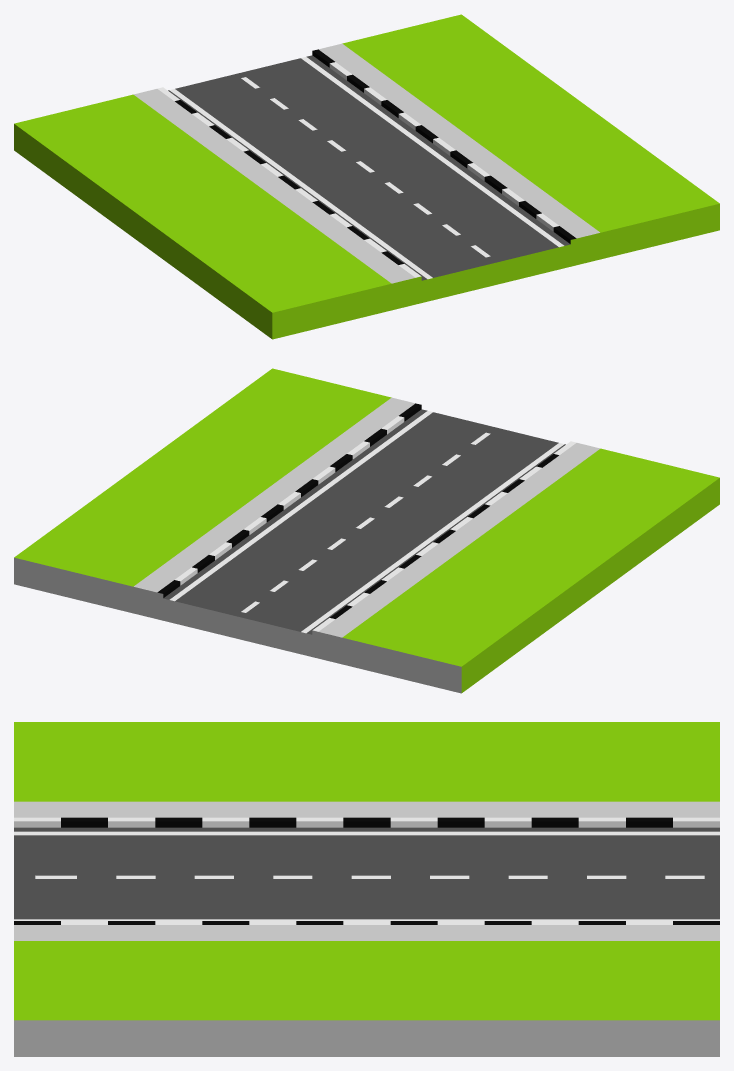
File: single lane straight road.FBX
3 views of the same model, one above another, from view 1: azimuth 30°, elevation 25°; view 2: azimuth 150°, elevation 25°; view 3: azimuth 270°, elevation 25° (orthographic). The views are drawn at different scales.
Parts seen in each view (by area): view 1: straight_road001; view 2: straight_road001; view 3: straight_road001.
Boxes of the visible parts, x1,y1,x2,y2 form: straight_road001: (14,14,719,339); straight_road001: (14,368,719,693); straight_road001: (14,722,719,1056).
Bounding box in the file's own units: 827 × 47.24 × 827.
